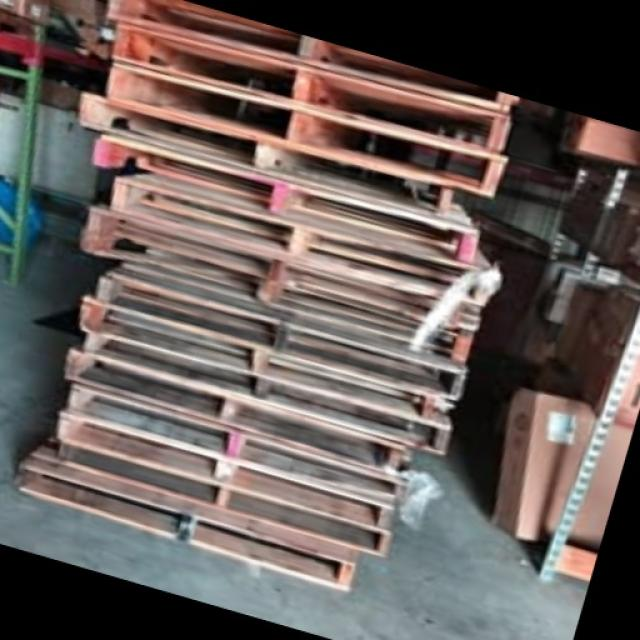non-igps: (100, 15, 515, 171), (99, 55, 516, 207), (10, 423, 362, 598), (71, 200, 488, 346), (86, 120, 488, 270), (73, 286, 461, 439), (99, 165, 498, 313), (74, 312, 460, 462), (70, 83, 460, 227), (89, 266, 474, 410), (55, 336, 412, 486), (95, 0, 525, 121), (60, 372, 416, 514), (51, 403, 402, 538), (48, 434, 406, 564)
